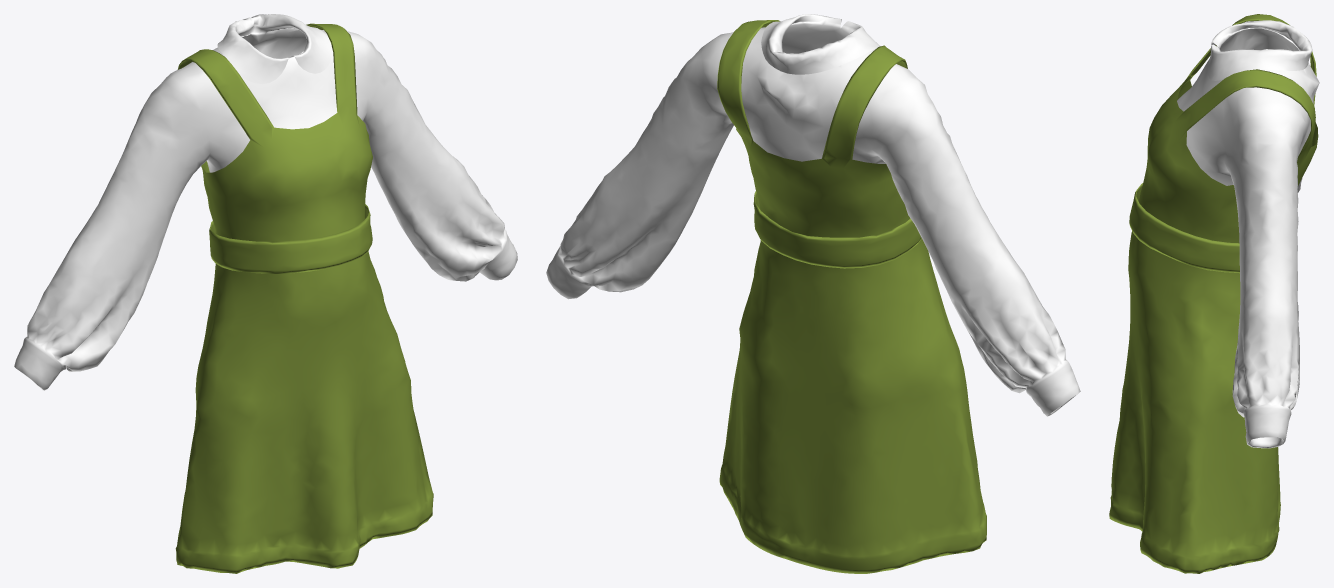
The model's file is puff-sleeve-and-jumper-skirt.fbx.
3 renders of one model, left to right at view 1: azimuth 30°, elevation 25°; view 2: azimuth 150°, elevation 25°; view 3: azimuth 270°, elevation 25°, orthographic. The views are drawn at different scales.
Parts seen in each view (by area): view 1: skirt, shirt; view 2: skirt, shirt; view 3: skirt, shirt.
Part boxes in pixels (x1,y1,x2,y2): skirt: (175,23,433,573); shirt: (14,14,517,390); skirt: (717,20,986,573); shirt: (546,14,1080,416); skirt: (1109,14,1318,573); shirt: (1177,20,1319,448).
Size of the model in its own units: 723 by 693 by 266.
